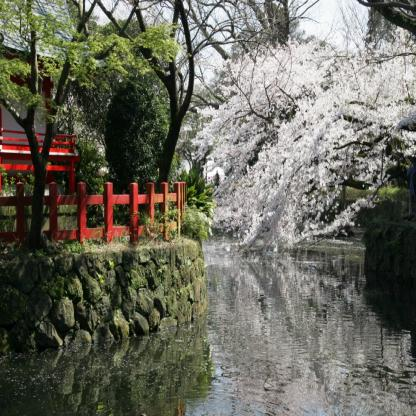Someiyoshino: (190, 32, 416, 244)
